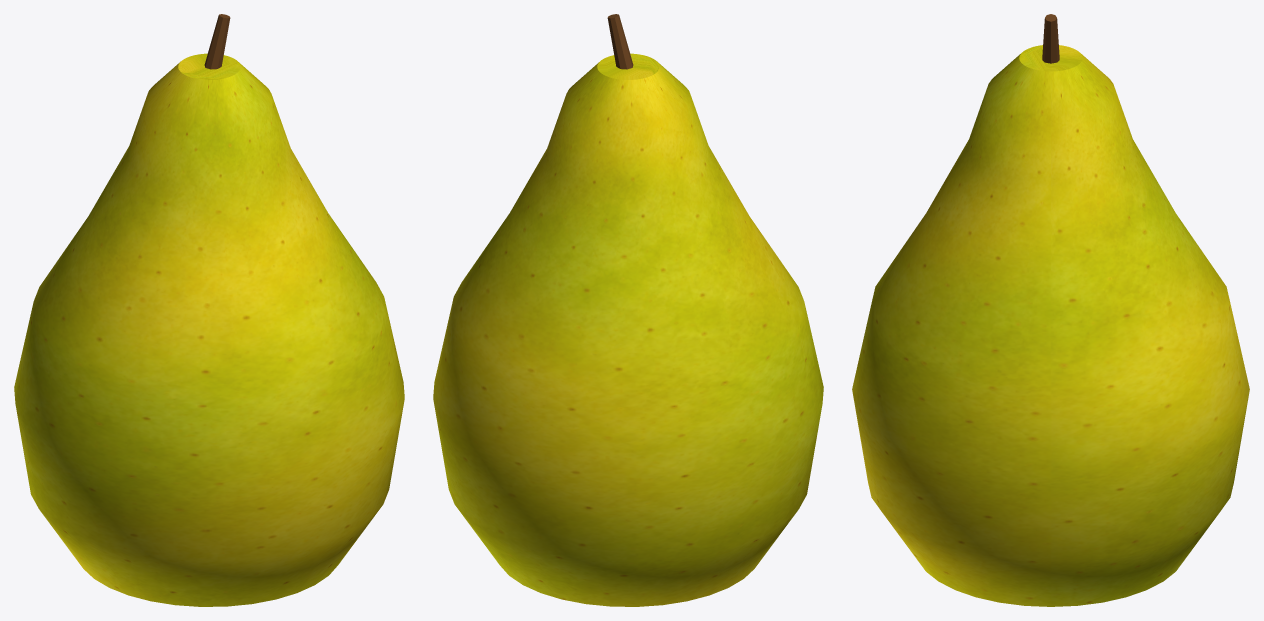
The model's file is pear-fE7OnZ3a.glb.
The picture shows the model from 3 angles, left to right: view 1: azimuth 30°, elevation 25°; view 2: azimuth 150°, elevation 25°; view 3: azimuth 270°, elevation 25°; orthographic projection.
Parts seen in each view (by area): view 1: FLC_pear; view 2: FLC_pear; view 3: FLC_pear.
Boxes of the visible parts, bbox=[...] form: FLC_pear: bbox=[14, 14, 404, 606]; FLC_pear: bbox=[433, 14, 823, 606]; FLC_pear: bbox=[852, 14, 1249, 606].
Size of the model in its own units: 0.78 by 1.23 by 0.78.
2 materials, 1 textured.
